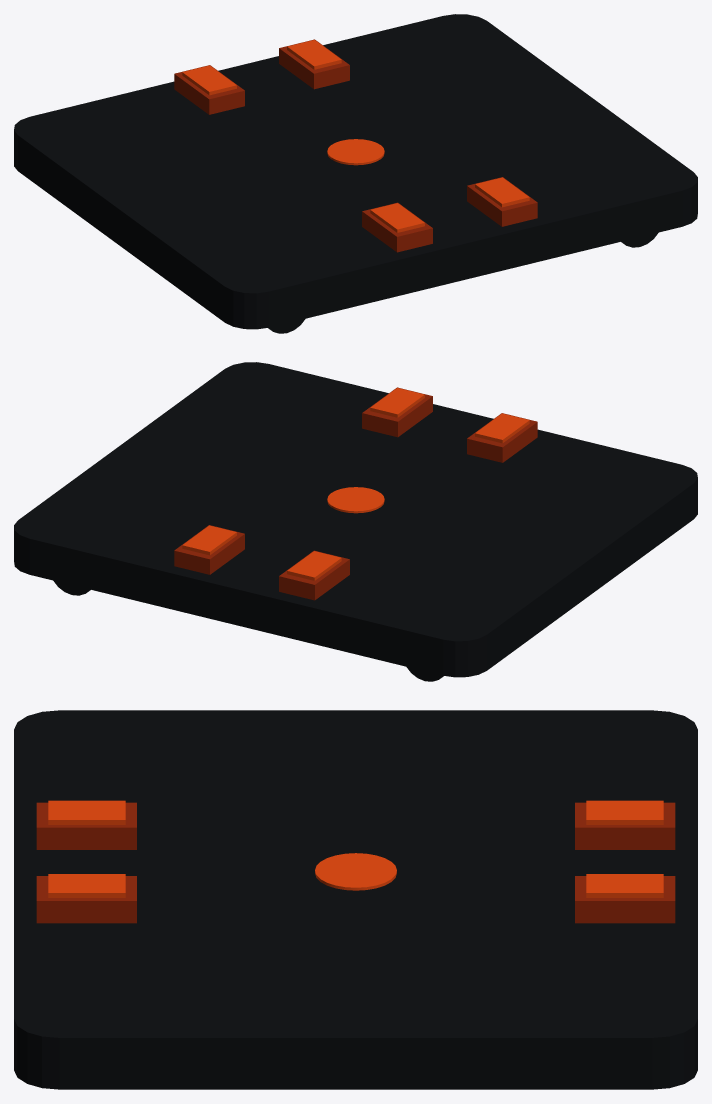
File: wheelset_agv.dae
The picture shows the model from 3 angles, top to bottom: view 1: azimuth 30°, elevation 25°; view 2: azimuth 150°, elevation 25°; view 3: azimuth 270°, elevation 25°; orthographic projection. The views are drawn at different scales.
Visible parts, largest first — view 1: wheelset_agv; view 2: wheelset_agv; view 3: wheelset_agv.
Part boxes in pixels (x1,y1,x2,y2): wheelset_agv: [14, 14, 697, 333]; wheelset_agv: [14, 362, 697, 681]; wheelset_agv: [14, 710, 697, 1089].
Bounding box in the file's own units: 1.7 × 1.5 × 0.266.
